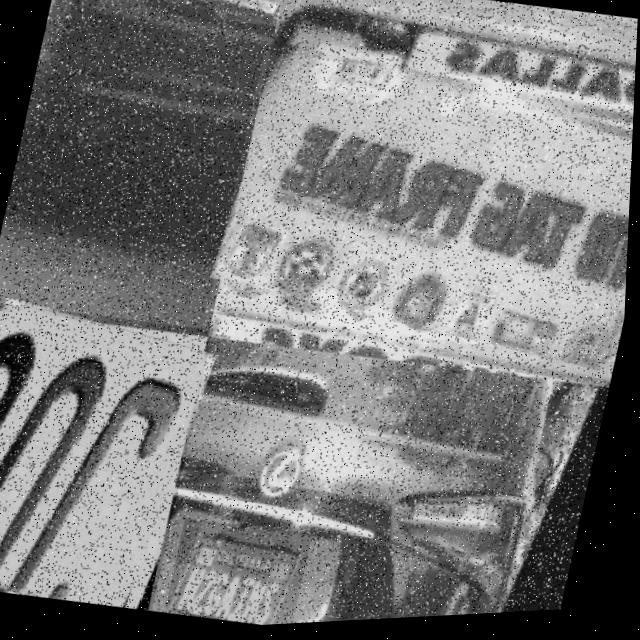LicensePlate: (207, 39, 638, 385), (0, 292, 217, 620), (169, 515, 318, 632), (210, 0, 287, 31)
